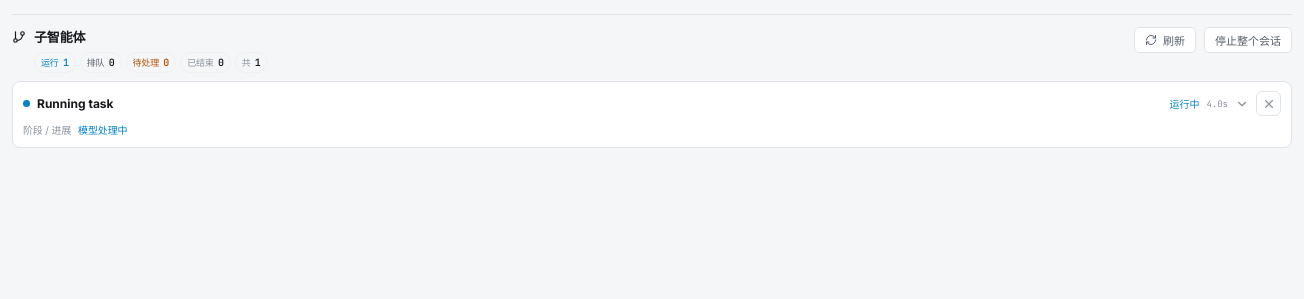
Scenario: ChildTasksPane › keeps running controls compact and confirms stop before sending it
The width and height of the screenshot is (1304, 299).
Expected: the element named "运行 1，排队 0，待处理 0，已结束 0，共 1" is shown, left=34, top=52, right=268, bottom=73
Expected: the text "模型处理中" is shown, left=78, top=124, right=127, bottom=136
What coordinates should you click on to do the following:
click the button named "停止Running task"
I would click on:
 (1268, 104)
Its box is left=1256, top=91, right=1281, bottom=116.
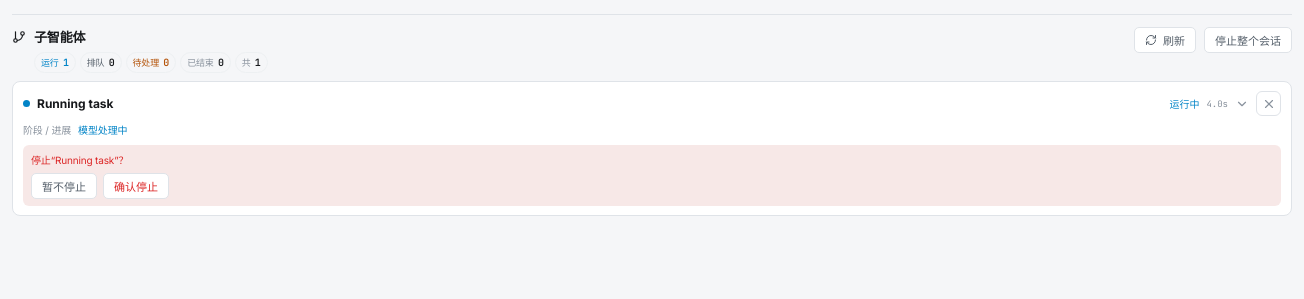
Expected: the element named "停止Running task确认" is shown, left=23, top=144, right=1281, bottom=206
What coordinates should you click on to do the following:
click the button "确认停止"
I would click on:
 (136, 186)
Its box is left=103, top=172, right=169, bottom=198.
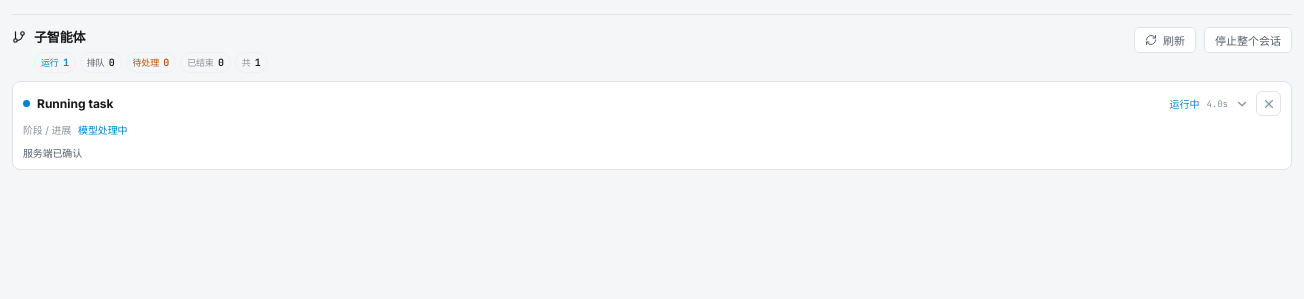
Expected: the text "服务端已确认" is shown, left=23, top=146, right=82, bottom=158
What coordinates should you click on to do the following:
click the button with class "child-task-summary"
I would click on:
 (75, 104)
Its box is left=23, top=96, right=1249, bottom=111.
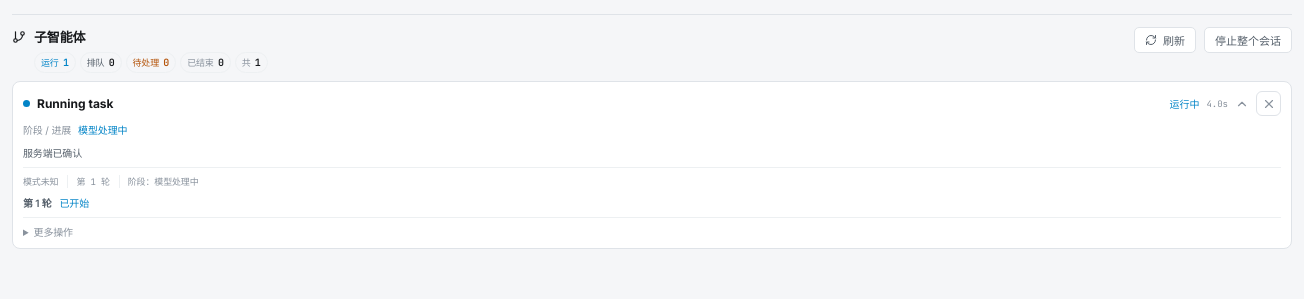
What coordinates should you click on to do the following:
click the heading "更多操作"
I would click on:
 (53, 232)
Its box is left=34, top=226, right=73, bottom=238.
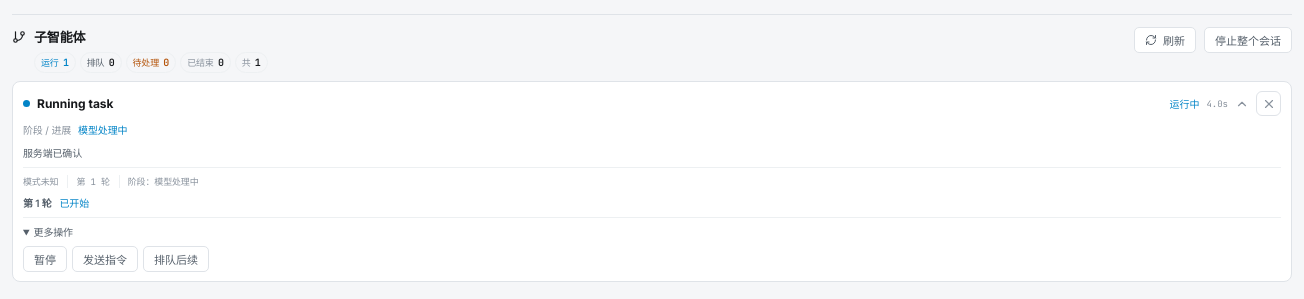
Expected: the button "暂停" is shown, left=23, top=246, right=67, bottom=272
Expected: the button "发送指令" is shown, left=72, top=246, right=138, bottom=272
Expected: the button "排队后续" is shown, left=143, top=246, right=209, bottom=272
